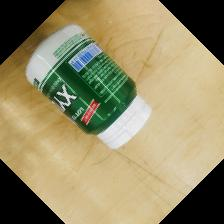Xylitol_green: (26, 24, 151, 150)
